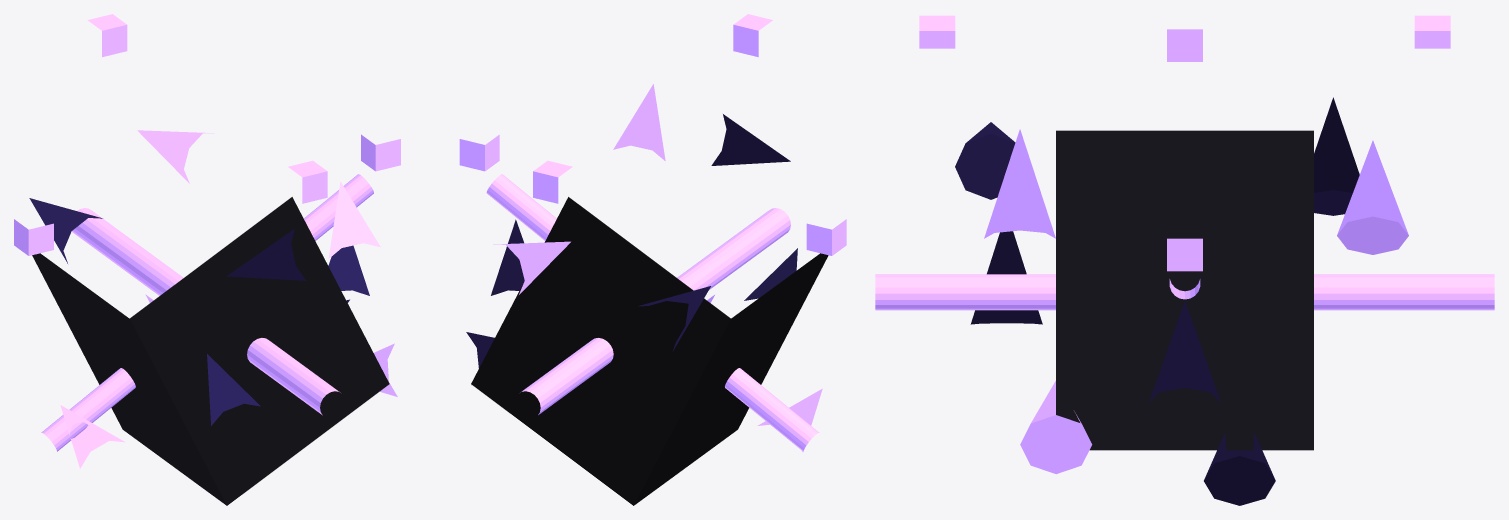
Rendered from enigma.glb.
3 renders of one model, left to right at view 1: azimuth 30°, elevation 25°; view 2: azimuth 150°, elevation 25°; view 3: azimuth 270°, elevation 25°, orthographic. The views are drawn at different scales.
Visible parts, largest first — view 1: enigma-void-core, enigma-event-ring, enigma-event-ring-x, enigma-star-8, enigma-star-1, enigma-star-2, enigma-star-5, enigma-star-4, enigma-star-3, enigma-star-0, enigma-flair-mote-2, enigma-flair-mote-0 (+2 smaller); view 2: enigma-void-core, enigma-event-ring, enigma-event-ring-x, enigma-star-8, enigma-star-1, enigma-star-5, enigma-star-0, enigma-flair-mote-0, enigma-flair-mote-2, enigma-flair-mote-3, enigma-flair-mote-1, enigma-star-2 (+2 smaller); view 3: enigma-void-core, enigma-event-ring, enigma-star-5, enigma-star-1, enigma-star-4, enigma-star-7, enigma-star-6, enigma-star-0, enigma-star-8, enigma-star-2, enigma-flair-mote-1, enigma-flair-mote-3 (+2 smaller).
Part boxes in pixels (x1,y1,x2,y2): enigma-void-core: (32, 197, 389, 505); enigma-event-ring: (72, 208, 340, 415); enigma-event-ring-x: (41, 174, 373, 451); enigma-star-8: (226, 229, 305, 280); enigma-star-1: (328, 181, 380, 258); enigma-star-2: (207, 354, 260, 425); enigma-star-5: (137, 130, 214, 183); enigma-star-4: (29, 198, 102, 263); enigma-star-3: (60, 405, 125, 468); enigma-star-0: (328, 245, 369, 295); enigma-flair-mote-2: (14, 219, 53, 255); enigma-flair-mote-0: (361, 134, 400, 171); enigma-void-core: (471, 197, 828, 505); enigma-event-ring: (520, 208, 790, 414); enigma-event-ring-x: (486, 174, 819, 451); enigma-star-8: (711, 114, 790, 165); enigma-star-1: (613, 84, 665, 160); enigma-star-5: (493, 241, 570, 294); enigma-star-0: (491, 219, 524, 295); enigma-flair-mote-0: (459, 134, 499, 171); enigma-flair-mote-2: (806, 219, 846, 255); enigma-flair-mote-3: (533, 160, 572, 203); enigma-flair-mote-1: (733, 14, 772, 57); enigma-star-2: (744, 248, 797, 300); enigma-void-core: (1056, 130, 1313, 450); enigma-event-ring: (875, 274, 1494, 310); enigma-star-5: (1337, 140, 1408, 254); enigma-star-1: (984, 129, 1055, 238); enigma-star-4: (1314, 97, 1359, 215); enigma-star-7: (1020, 381, 1092, 474); enigma-star-6: (1204, 432, 1275, 505); enigma-star-0: (1149, 301, 1220, 402); enigma-star-8: (955, 122, 1015, 199); enigma-star-2: (970, 231, 1042, 324); enigma-flair-mote-1: (919, 15, 955, 48); enigma-flair-mote-3: (1414, 15, 1450, 48).
Bounding box in the file's own units: 1.03 × 0.9629 × 1.2.
